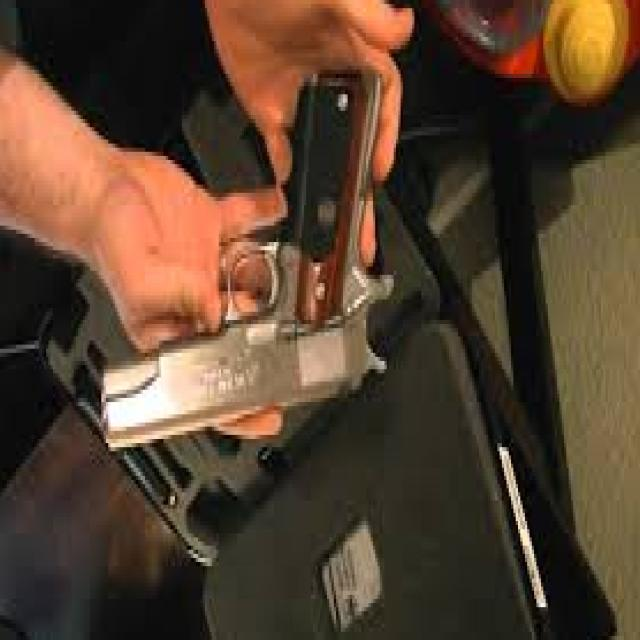gun: (85, 81, 426, 510)
